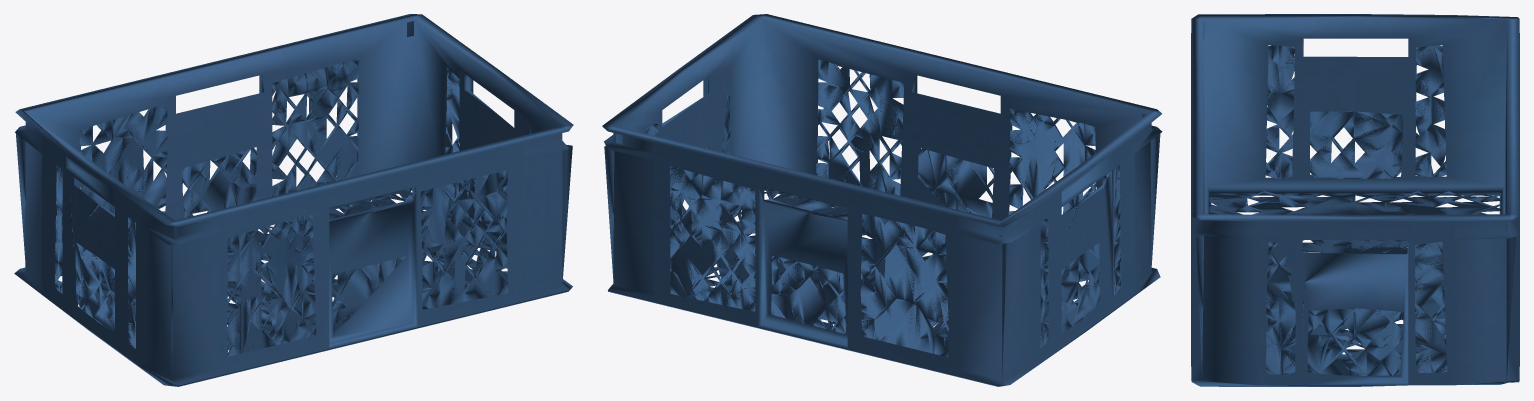
Rendered from crate_blue_a02.glb.
The picture shows the model from 3 angles, left to right: view 1: azimuth 30°, elevation 25°; view 2: azimuth 150°, elevation 25°; view 3: azimuth 270°, elevation 25°; orthographic projection. The views are drawn at different scales.
Parts seen in each view (by area): view 1: sm_crate_a02_mesh_00; view 2: sm_crate_a02_mesh_00; view 3: sm_crate_a02_mesh_00.
Boxes of the visible parts, bbox=[...] form: sm_crate_a02_mesh_00: bbox=[14, 14, 573, 386]; sm_crate_a02_mesh_00: bbox=[602, 14, 1162, 386]; sm_crate_a02_mesh_00: bbox=[1191, 14, 1519, 386].
Size of the model in its own units: 0.6117 by 0.2393 by 0.4116.
1 material, 1 textured.
